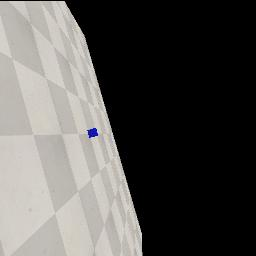box: (87, 128, 98, 138)
